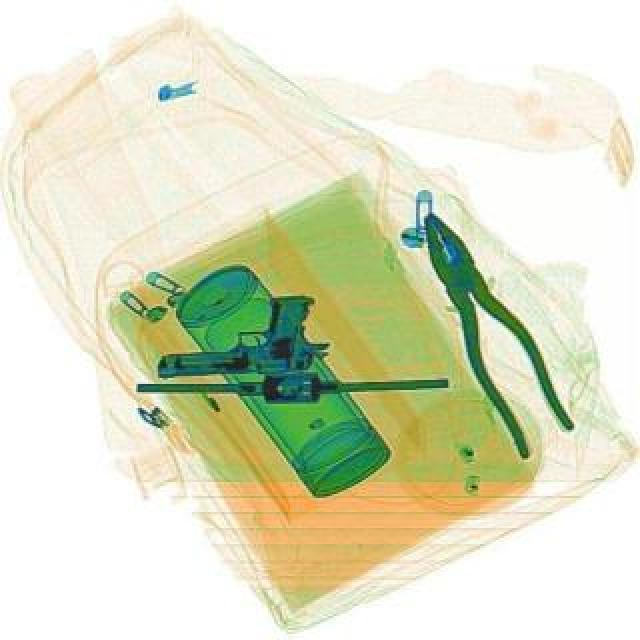gun: (150, 292, 334, 378)
wrench: (392, 196, 582, 460)
